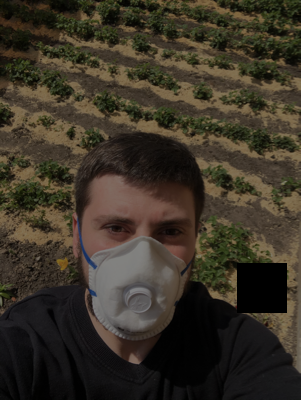with_mask: (86, 194, 195, 340)
